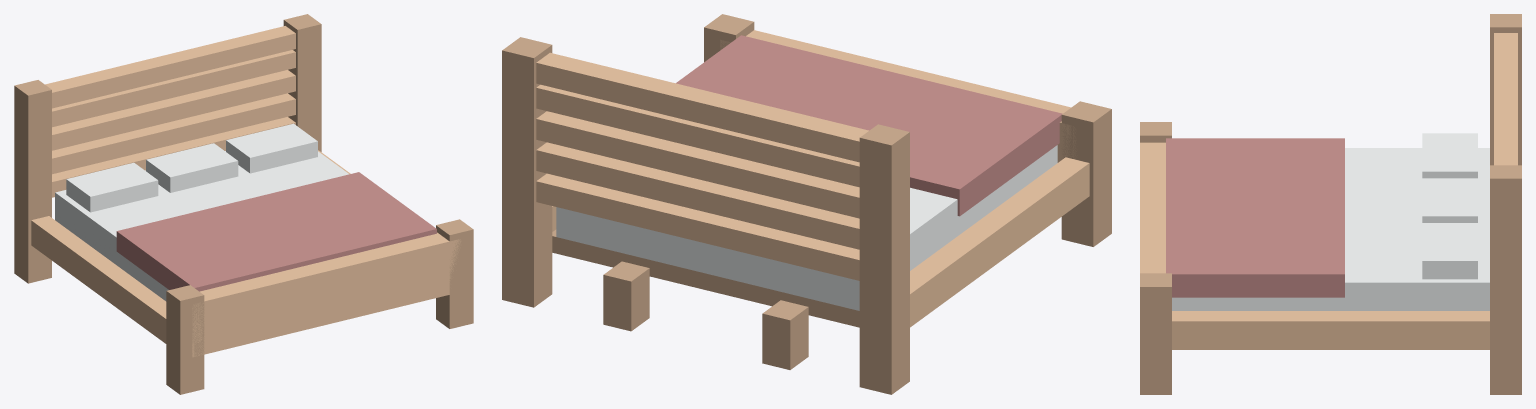
The model's file is bedKingRustic.glb.
The picture shows the model from 3 angles, left to right: view 1: azimuth 30°, elevation 25°; view 2: azimuth 150°, elevation 25°; view 3: azimuth 270°, elevation 25°; orthographic projection. The views are drawn at different scales.
Visible parts, largest first — view 1: bedKingRustic; view 2: bedKingRustic; view 3: bedKingRustic.
Boxes of the visible parts, x1,y1,x2,y2 form: bedKingRustic: [14, 14, 473, 394]; bedKingRustic: [502, 14, 1111, 394]; bedKingRustic: [1140, 14, 1521, 394].
Size of the model in its own units: 0.98 by 0.6 by 0.96.
